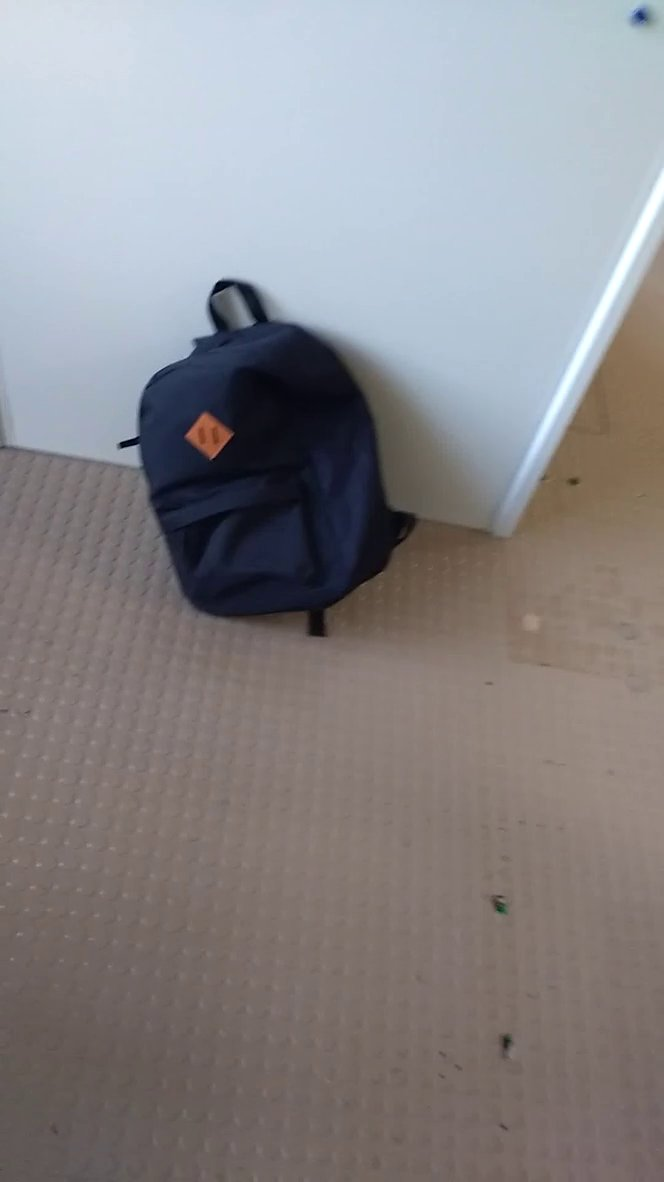bag: (103, 266, 429, 655)
